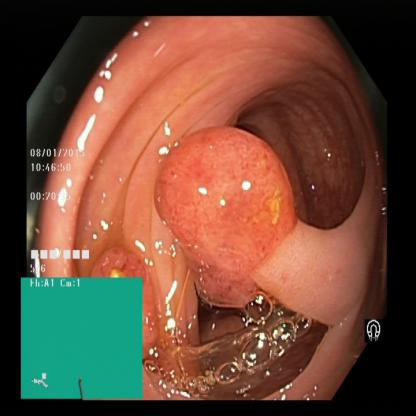Labels: (20, 276, 144, 402), (25, 146, 104, 276), (359, 309, 389, 351)
Polyps: (148, 129, 302, 295)
